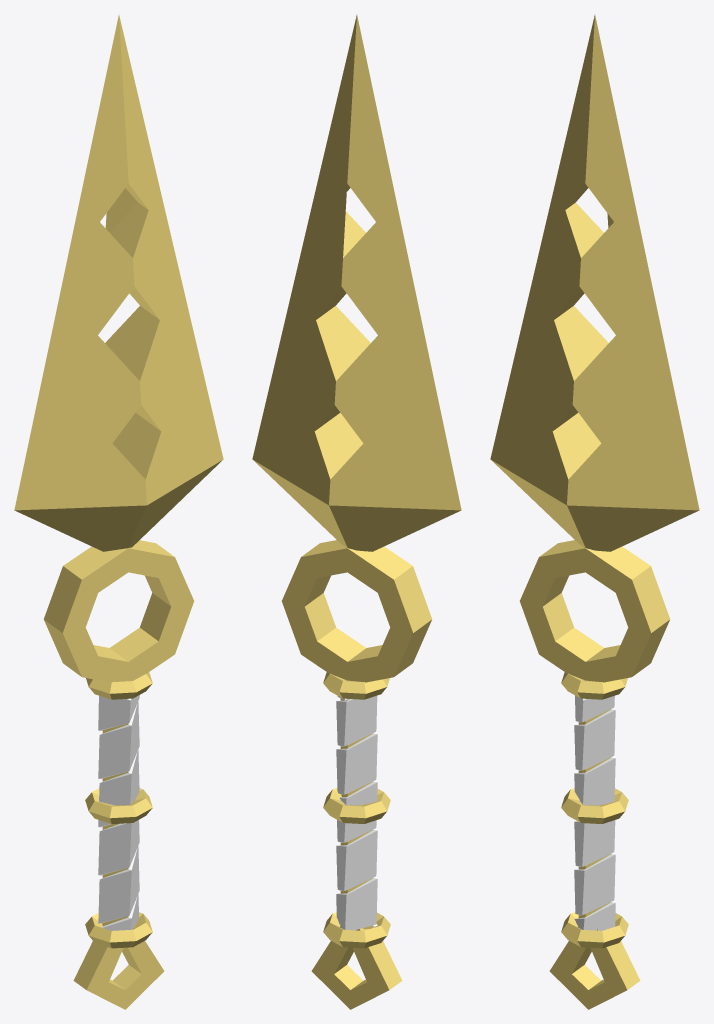
File: PlayerKunaiModel.fbx
3 views of the same model, side by side, from view 1: azimuth 30°, elevation 25°; view 2: azimuth 150°, elevation 25°; view 3: azimuth 330°, elevation 25° (orthographic).
Visible parts, largest first — view 1: Kunai2; view 2: Kunai2; view 3: Kunai2.
Part boxes in pixels (bbox=[...]): Kunai2: bbox=[14, 15, 223, 1009]; Kunai2: bbox=[252, 15, 461, 1009]; Kunai2: bbox=[490, 15, 699, 1009].
Size of the model in its own units: 192 by 871 by 89.48.
